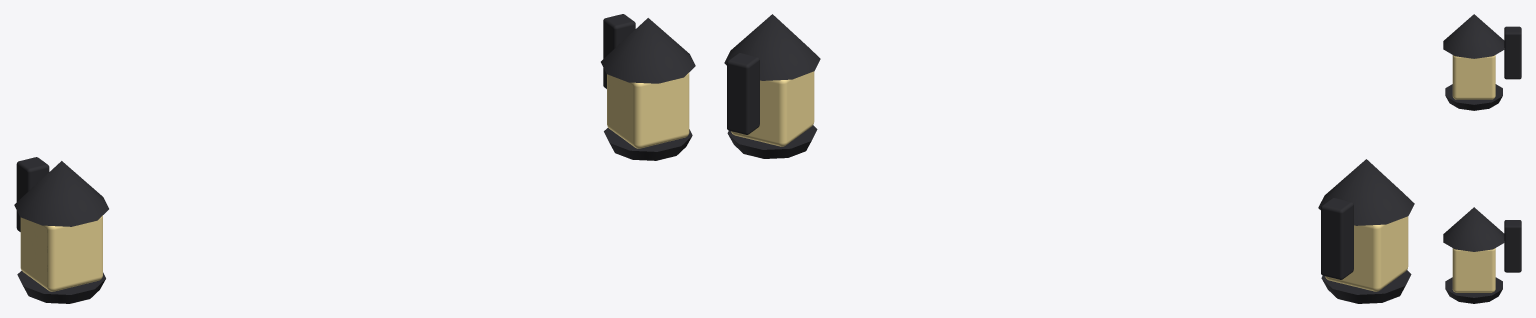
The model's file is house_lamps.glb.
The picture shows the model from 3 angles, left to right: view 1: azimuth 30°, elevation 25°; view 2: azimuth 150°, elevation 25°; view 3: azimuth 270°, elevation 25°; orthographic projection. The views are drawn at different scales.
Parts seen in each view (by area): view 1: house_lamps_main, house_lamps_glass; view 2: house_lamps_main, house_lamps_glass; view 3: house_lamps_main, house_lamps_glass.
Part boxes in pixels (left/top/right/bottom): house_lamps_main: left=14, top=14, right=695, bottom=303; house_lamps_glass: left=20, top=72, right=689, bottom=291; house_lamps_main: left=724, top=14, right=1414, bottom=303; house_lamps_glass: left=731, top=71, right=1408, bottom=291; house_lamps_main: left=1443, top=14, right=1521, bottom=303; house_lamps_glass: left=1452, top=55, right=1495, bottom=292.
Size of the model in its own units: 1.21 by 0.22 by 0.1813.
